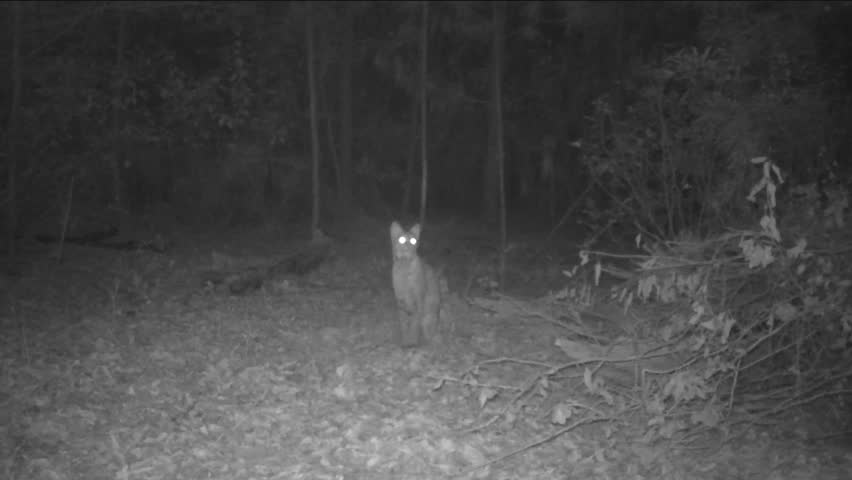bobcat: (369, 194, 473, 376)
